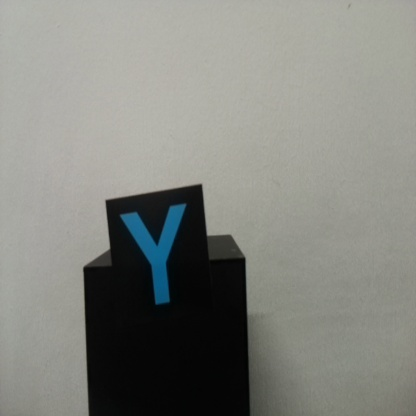id_14: (106, 199, 209, 317)
